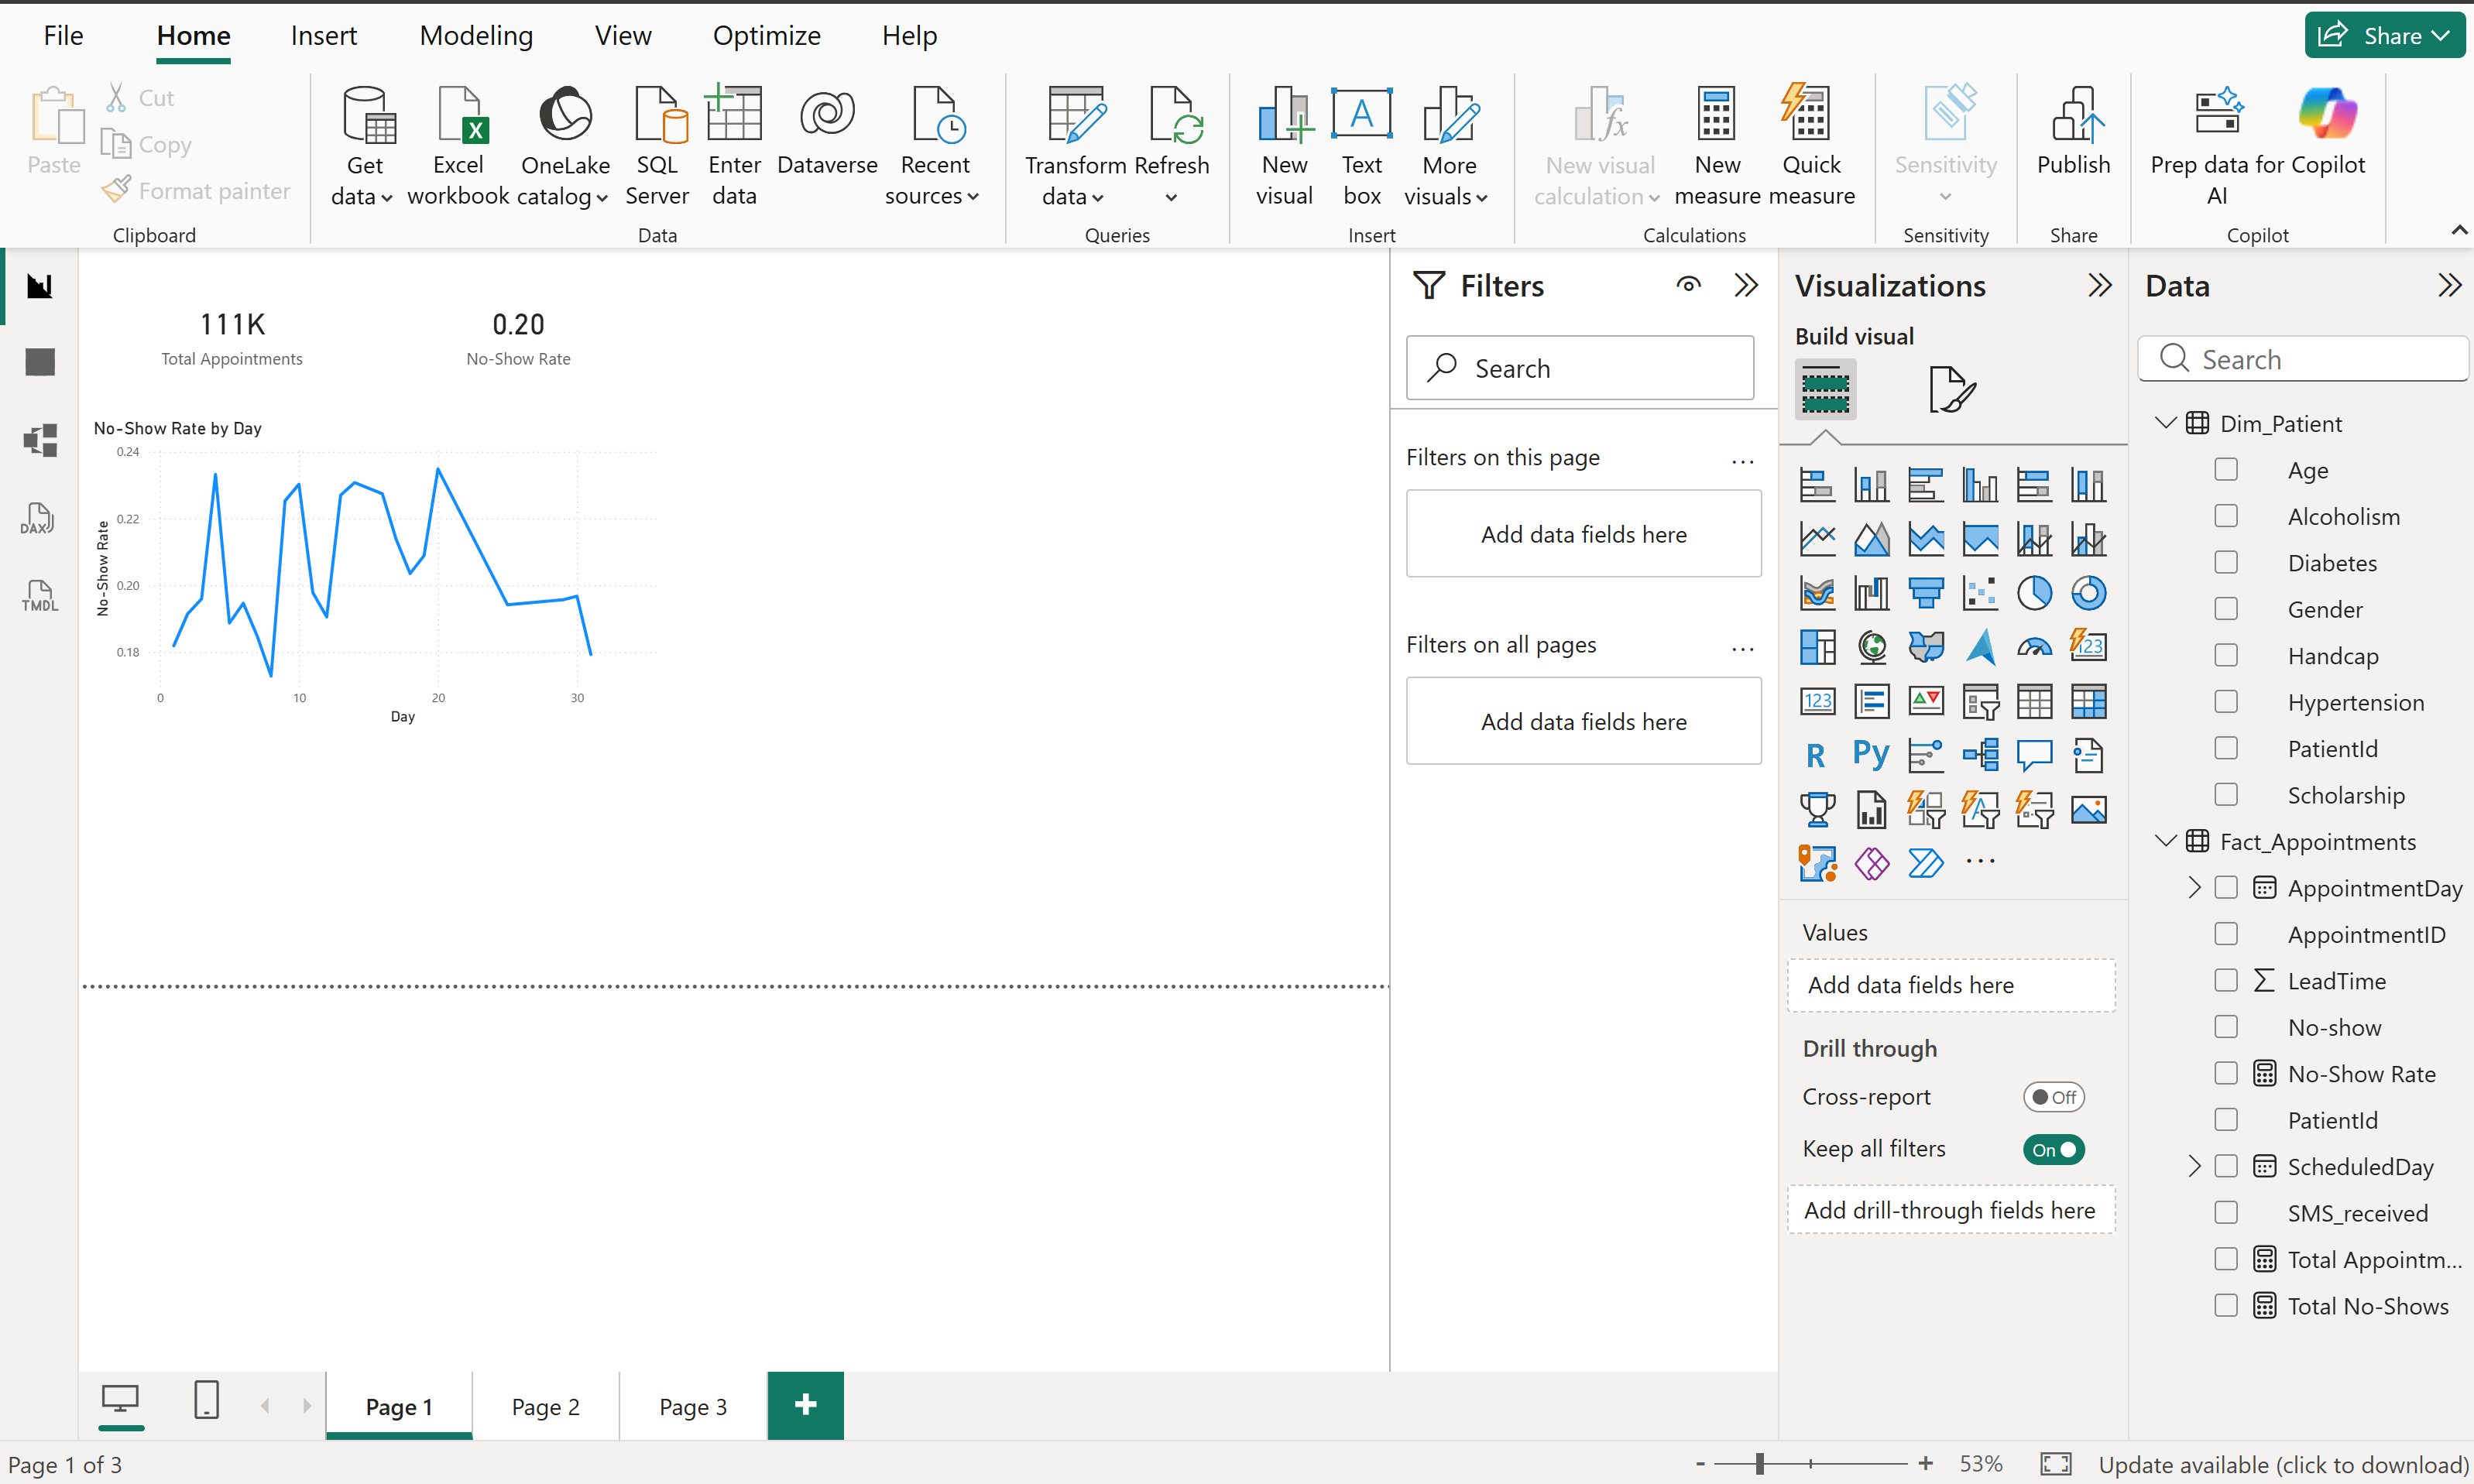

This screenshot's page, from the dashboard's own definition file:
{"tool":"powerbi","page":{"name":"Page 1","canvas":[1280,720],"ordinal":0},"visuals":[{"type":"card","fields":{"Values":["Fact_Appointments.Total Appointments"]},"box":[9.5,0,279.9,166.4],"z":0},{"type":"card","fields":{"Values":["Fact_Appointments.No-Show Rate"]},"box":[289.4,0,279.9,166.4],"z":1},{"type":"lineChart","fields":{"Category":["Fact_Appointments.AppointmentDay.Variation.Date Hierarchy.Day"],"Y":["Fact_Appointments.No-Show Rate"]},"box":[9.5,166.4,559.8,304.5],"z":2}]}

Visuals, with their boxes on the page's 1280x720 design canvas (x1, y1, x2, y2). These are canvas units, not pixel positions in the 2474x1484 screenshot, which may show the page scaled, cropped or inside an application window:
card - Fact_Appointments.Total Appointments: 10:0:289:166
card - Fact_Appointments.No-Show Rate: 289:0:569:166
lineChart - Fact_Appointments.AppointmentDay.Variation.Date Hierarchy.Day x Fact_Appointments.No-Show Rate: 10:166:569:471
